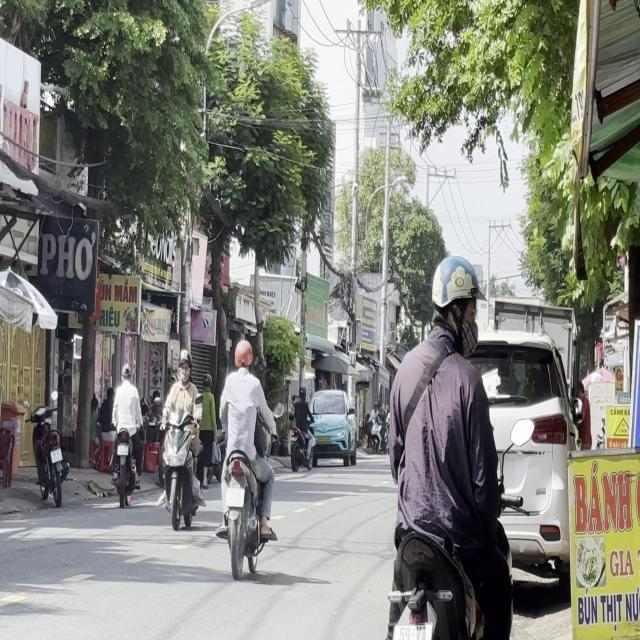helmet: (429, 252, 481, 344), (233, 338, 253, 370), (177, 348, 193, 382)
licenseplate: (379, 246, 522, 636), (214, 336, 277, 576), (162, 347, 210, 533)
nohelmet: (226, 486, 244, 506)
